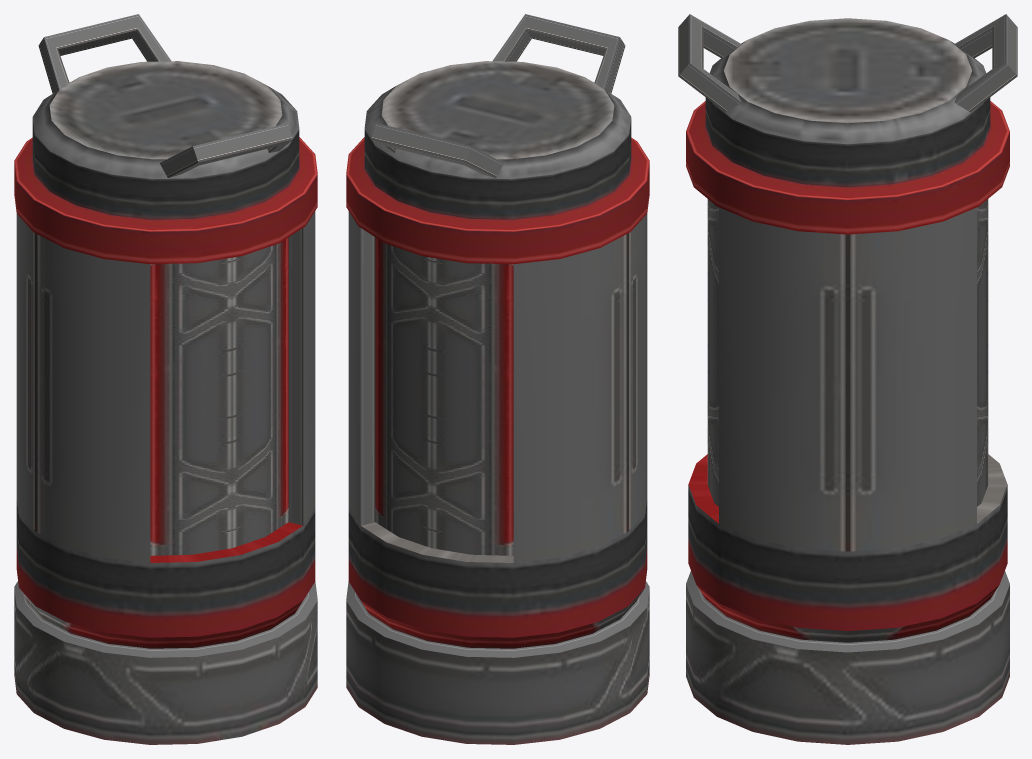
Rendered from drum.glb.
3 renders of one model, left to right at view 1: azimuth 30°, elevation 25°; view 2: azimuth 150°, elevation 25°; view 3: azimuth 270°, elevation 25°, orthographic. The views are drawn at different scales.
Parts seen in each view (by area): view 1: Prop_Barrel_Large; view 2: Prop_Barrel_Large; view 3: Prop_Barrel_Large.
Part boxes in pixels (x1,y1,x2,y2): Prop_Barrel_Large: [14, 14, 317, 744]; Prop_Barrel_Large: [346, 14, 649, 744]; Prop_Barrel_Large: [678, 14, 1017, 744].
Size of the model in its own units: 0.5078 by 1.1 by 0.532.
Materials: 2 (2 with a texture image).
